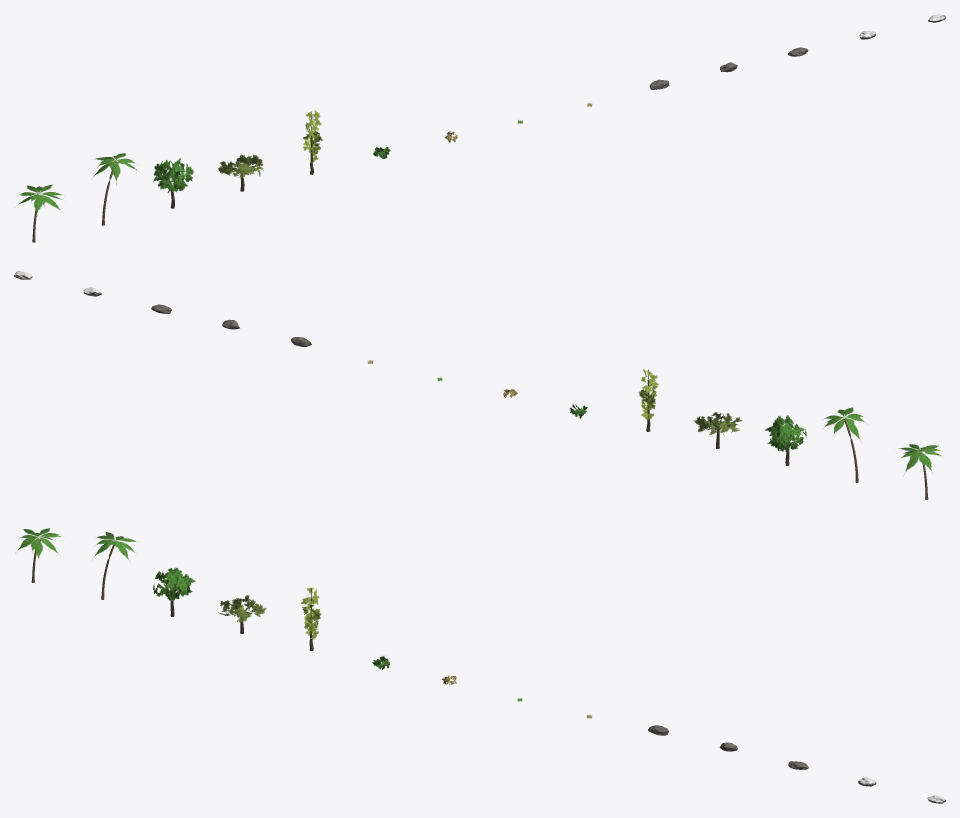
File: nature.glb
The picture shows the model from 3 angles, top to bottom: view 1: azimuth 30°, elevation 25°; view 2: azimuth 150°, elevation 25°; view 3: azimuth 330°, elevation 25°; orthographic projection.
Visible parts, largest first — view 1: neem_leaves, acacia_leaves, poplar_leaves, palm_leaves; view 2: neem_leaves, acacia_leaves, poplar_leaves, palm_leaves, coconut_leaves; view 3: neem_leaves, acacia_leaves, palm_leaves, poplar_leaves.
Boxes of the visible parts, x1,y1,x2,y2 form: neem_leaves: [153, 158, 193, 192]; acacia_leaves: [218, 154, 263, 177]; poplar_leaves: [303, 110, 322, 162]; palm_leaves: [17, 184, 63, 216]; neem_leaves: [764, 415, 806, 451]; acacia_leaves: [693, 412, 742, 435]; poplar_leaves: [638, 368, 658, 419]; palm_leaves: [898, 444, 942, 475]; coconut_leaves: [823, 407, 865, 442]; neem_leaves: [153, 567, 195, 600]; acacia_leaves: [218, 595, 266, 622]; palm_leaves: [15, 528, 60, 558]; poplar_leaves: [301, 587, 321, 639].
Bounding box in the file's own units: 160 × 11.41 × 8.45.
3 materials, 2 textured.
